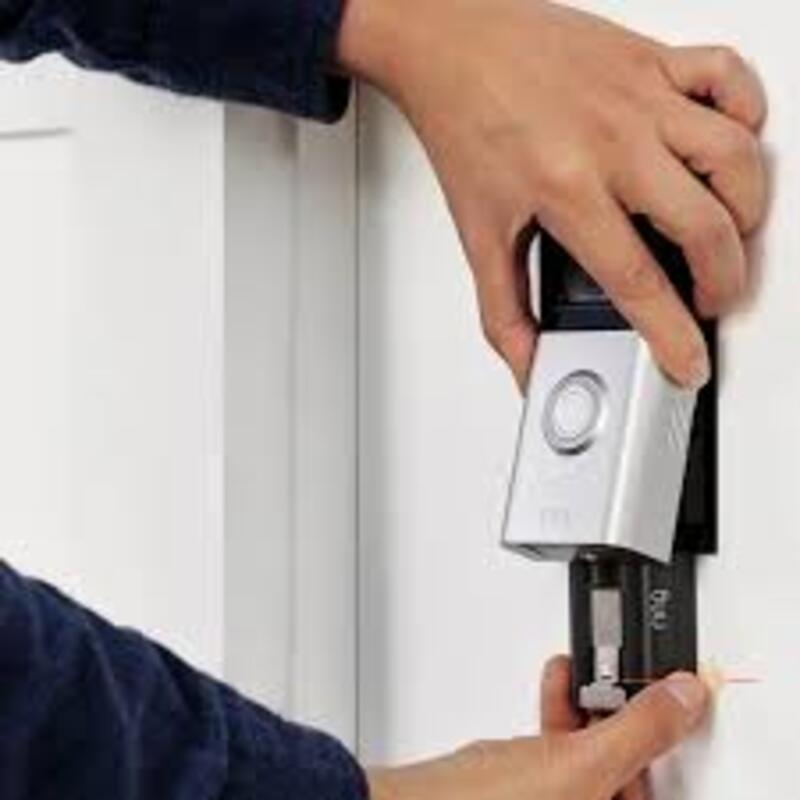doorbell: (472, 177, 706, 582)
